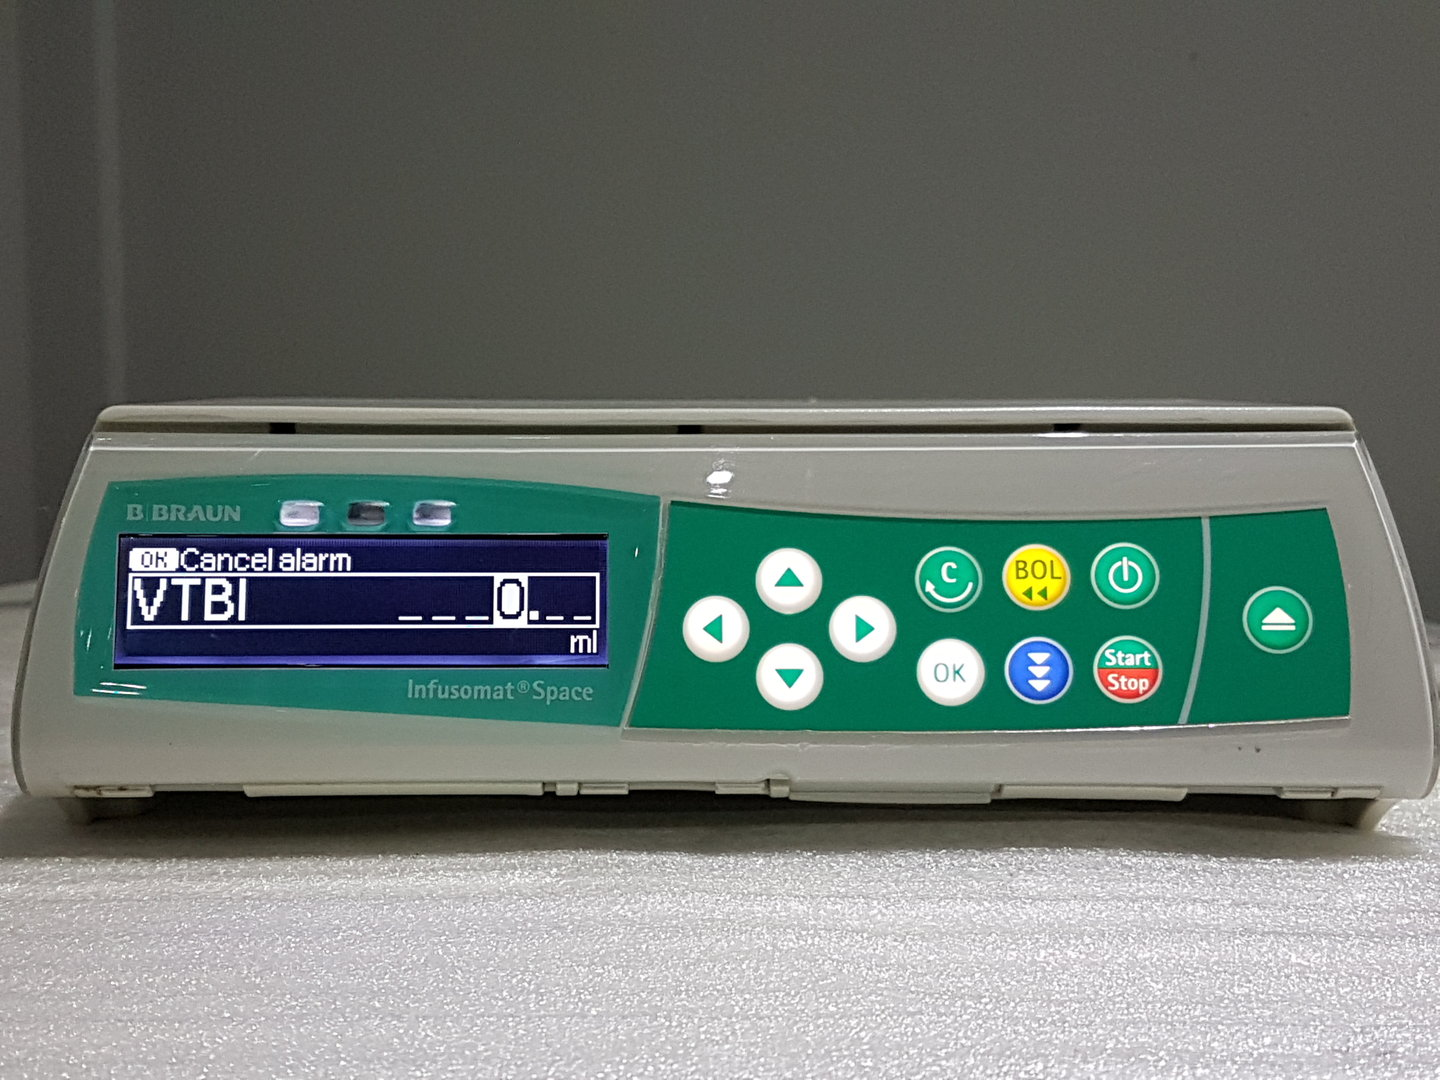BBraun Infusomat Space: (12, 381, 1439, 839)
